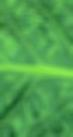Tomato leaf mosaic virus: (0, 2, 73, 137)
